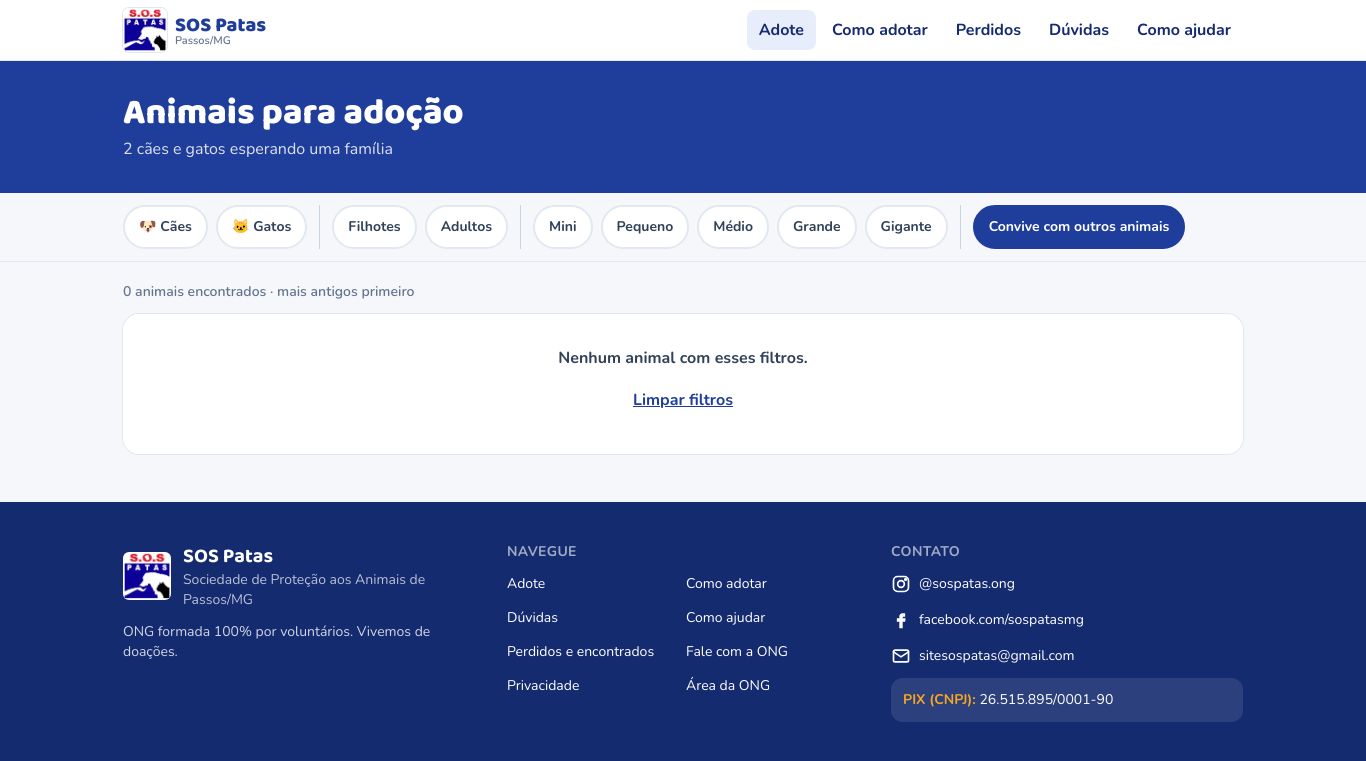
Test: Vitrine (T02) › "Limpar filtros" volta para a lista completa
Click the button "Limpar filtros" at (683,400), box x1=633 y1=378 x2=733 y2=422
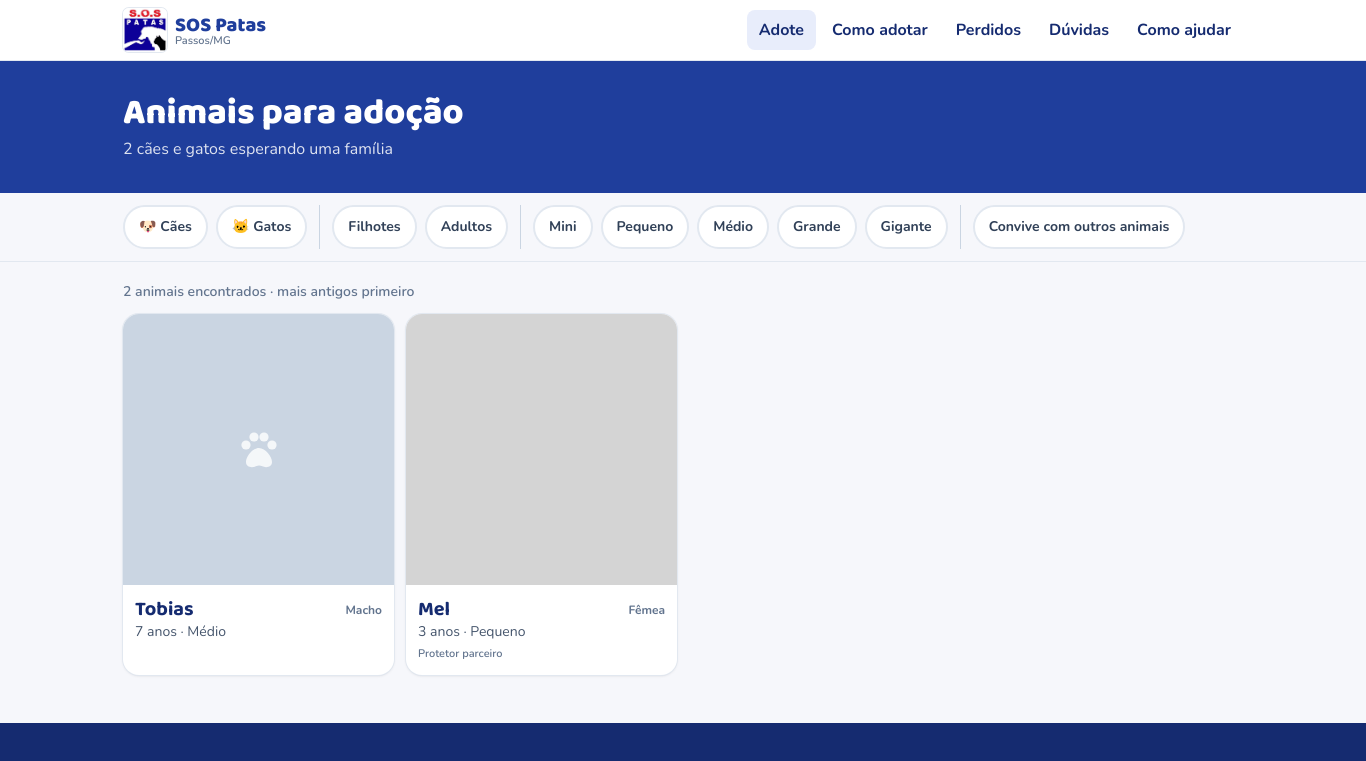
Check: the text "2 animais encontrados · mais antigos primeiro" is shown, box x1=123 y1=282 x2=414 y2=301
